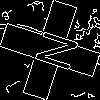N: (25, 25, 79, 73)
